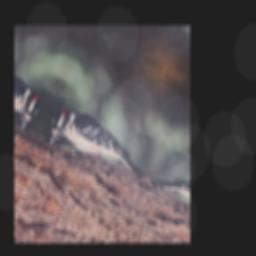Woodpecker: (41, 95, 155, 192)
